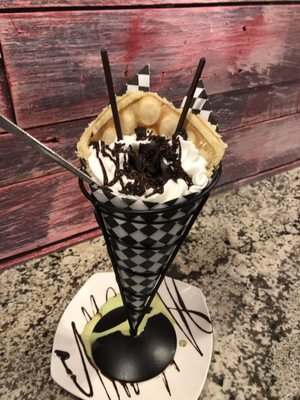sandwich: (172, 56, 207, 141)
